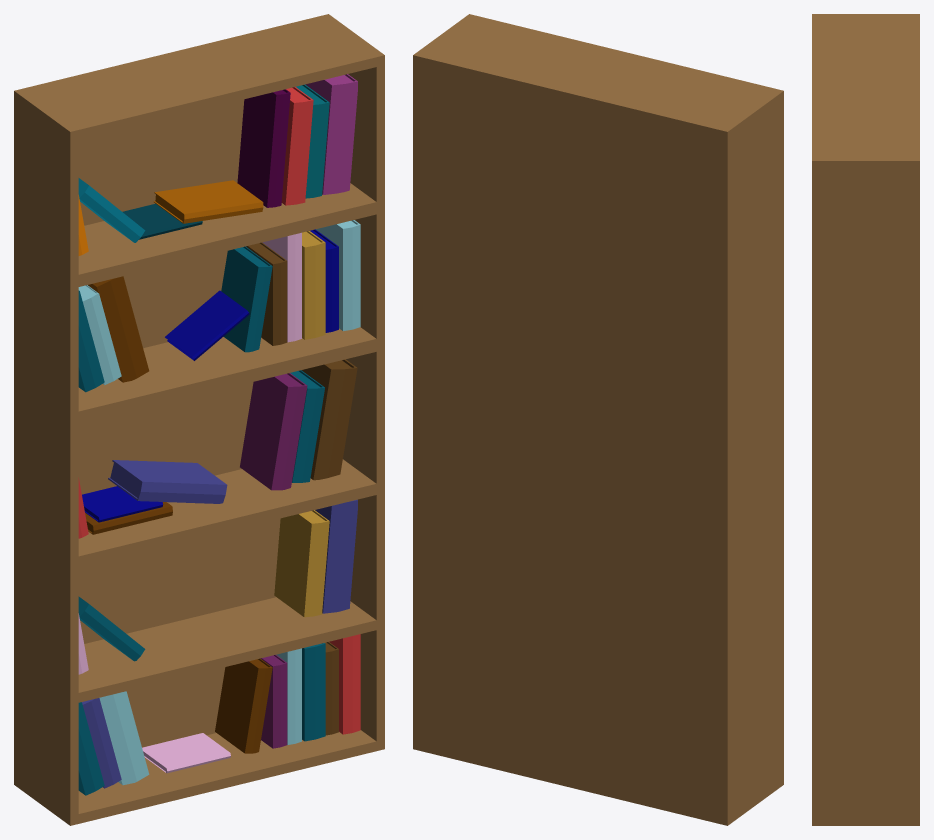
Rendered from EstanteriaEscenario2.fbx.
3 renders of one model, left to right at view 1: azimuth 30°, elevation 25°; view 2: azimuth 150°, elevation 25°; view 3: azimuth 270°, elevation 25°, orthographic. The views are drawn at different scales.
Visible parts, largest first — view 1: Estanteria_5_Dr004; view 2: Estanteria_5_Dr004; view 3: Estanteria_5_Dr004.
Boxes of the visible parts, bbox=[...] form: Estanteria_5_Dr004: bbox=[14, 14, 384, 825]; Estanteria_5_Dr004: bbox=[413, 14, 783, 825]; Estanteria_5_Dr004: bbox=[812, 14, 919, 825].
Bounding box in the file's own units: 127 × 268 × 39.46.
